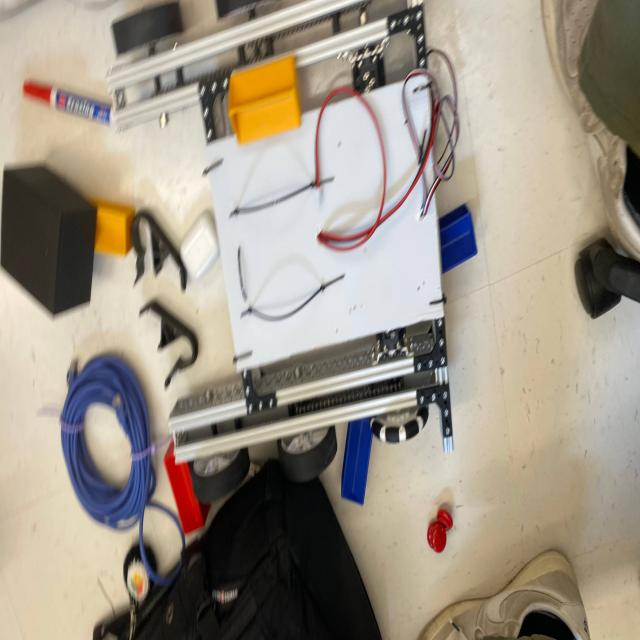blue-specimen: (341, 418, 373, 505), (439, 204, 477, 273)
red-specimen: (164, 438, 210, 535)
yellow-specimen: (228, 56, 301, 144), (95, 201, 135, 256)
